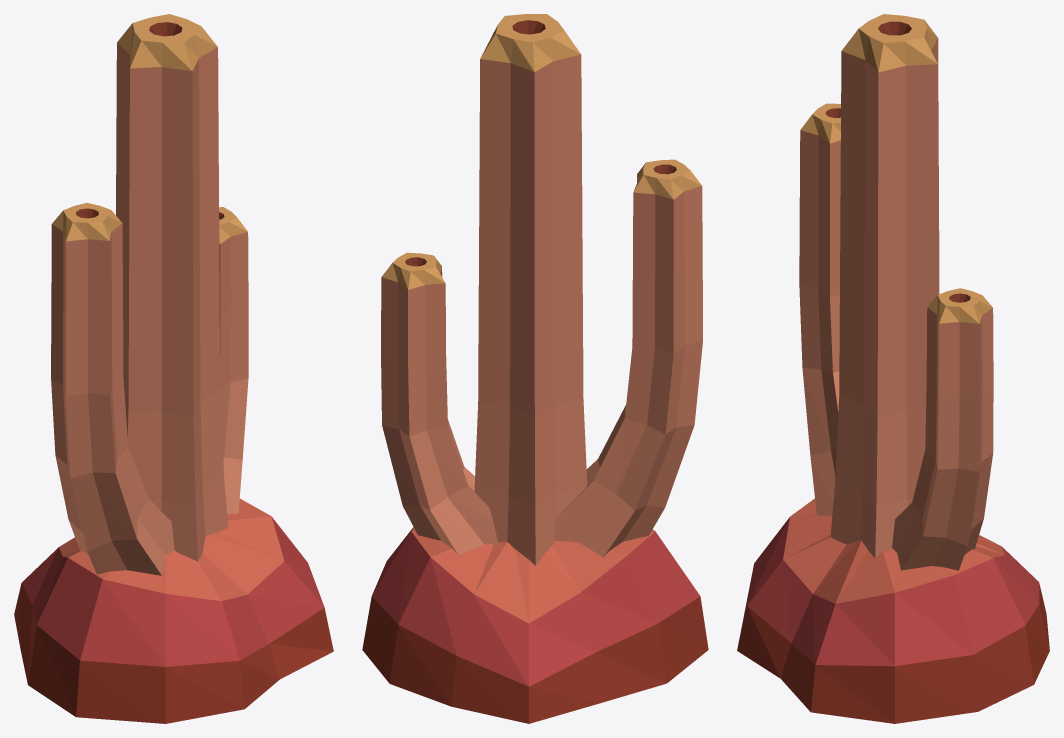
File: pillar-coral-b6deba.glb
3 views of the same model, side by side, from view 1: azimuth 30°, elevation 25°; view 2: azimuth 150°, elevation 25°; view 3: azimuth 270°, elevation 25° (orthographic).
Visible parts, largest first — view 1: pillar-coral-shell; view 2: pillar-coral-shell; view 3: pillar-coral-shell.
Part boxes in pixels (x1,y1,x2,y2): pillar-coral-shell: (14,14,333,723); pillar-coral-shell: (362,14,708,723); pillar-coral-shell: (737,14,1049,723).
Size of the model in its own units: 0.8708 by 1.8 by 0.8203.
